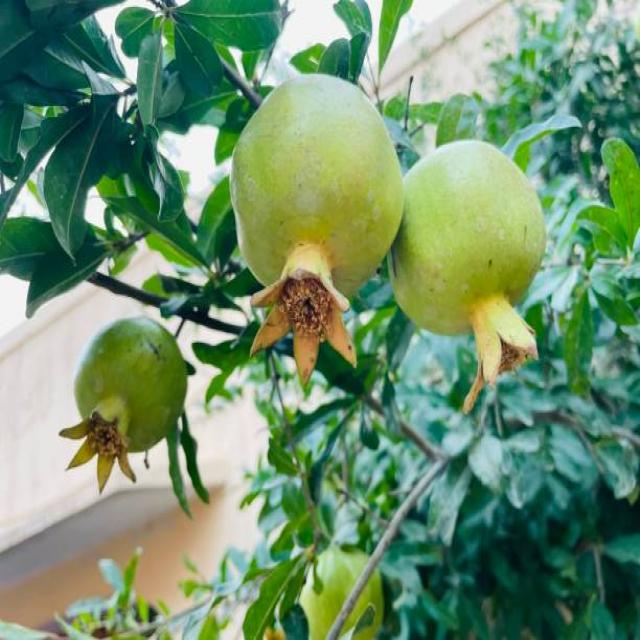Unripe: (231, 66, 403, 388), (391, 140, 546, 411), (62, 314, 185, 493)
